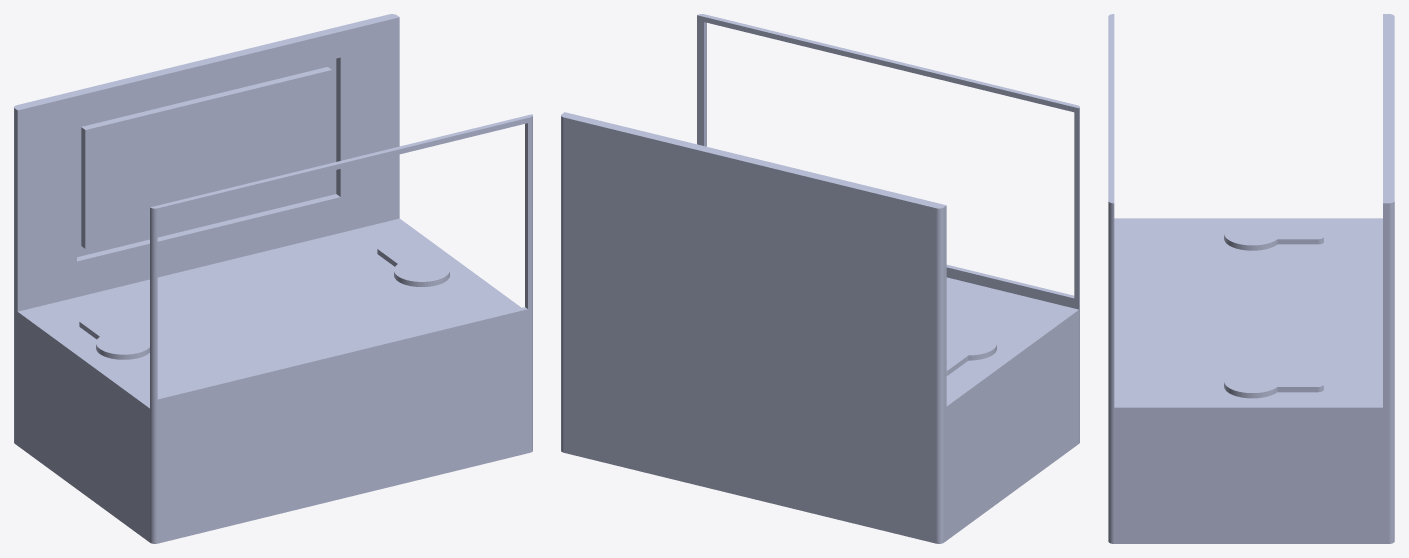
Rendered from work_cell_revised.dae.
The picture shows the model from 3 angles, left to right: view 1: azimuth 30°, elevation 25°; view 2: azimuth 150°, elevation 25°; view 3: azimuth 270°, elevation 25°; orthographic projection.
Parts seen in each view (by area): view 1: _ncl1_5, _ncl1_3, WORKFBXASC032CELLFBXASC032RESIVED; view 2: _ncl1_5, WORKFBXASC032CELLFBXASC032RESIVED; view 3: _ncl1_5, WORKFBXASC032CELLFBXASC032RESIVED, _ncl1_3.
Boxes of the visible parts, bbox=[...] form: _ncl1_5: bbox=[14, 14, 532, 543]; _ncl1_3: bbox=[377, 242, 449, 286]; WORKFBXASC032CELLFBXASC032RESIVED: bbox=[79, 315, 149, 359]; _ncl1_5: bbox=[561, 14, 1079, 543]; WORKFBXASC032CELLFBXASC032RESIVED: bbox=[946, 331, 996, 375]; _ncl1_5: bbox=[1108, 14, 1394, 543]; WORKFBXASC032CELLFBXASC032RESIVED: bbox=[1224, 221, 1323, 250]; _ncl1_3: bbox=[1224, 369, 1323, 398].
Size of the model in its own units: 1.97 by 1.65 by 1.26.
